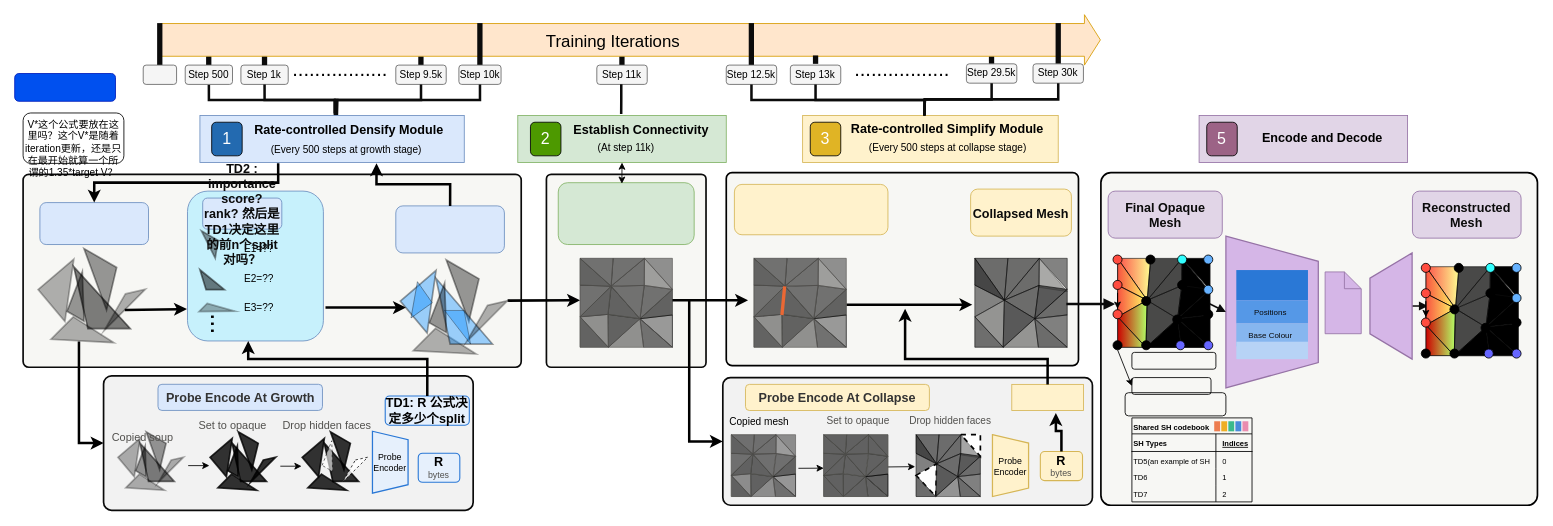
Image size: 1553x526. Some labels were removed from this diagram. Each missing label, with the centre of its shape:
(x,y,z): the point at 1171,385
Connectivity: the point at 1272,285
Decoder: the point at 1390,305
Identify cheapest edges to collapse :TD公式？这里的edge是不是也要根据这个公式排序？然后让TD3的结果选前几个？: the point at 811,209
Input Target file Size: the point at 65,87
One File: the point at 1342,302
Restricted Delaunay Triangulation: the point at 625,213
semi-transparent mesh soup: the point at 94,223
SH colour indices: the point at 1272,350
split the n worst triangles: the point at 449,229
Step 0: the point at 159,74
TD3: R 公式决定多少个collapse: the point at 1047,397
TD8 describe connection: the point at 1173,360
TD9 show DC: the point at 1175,404
